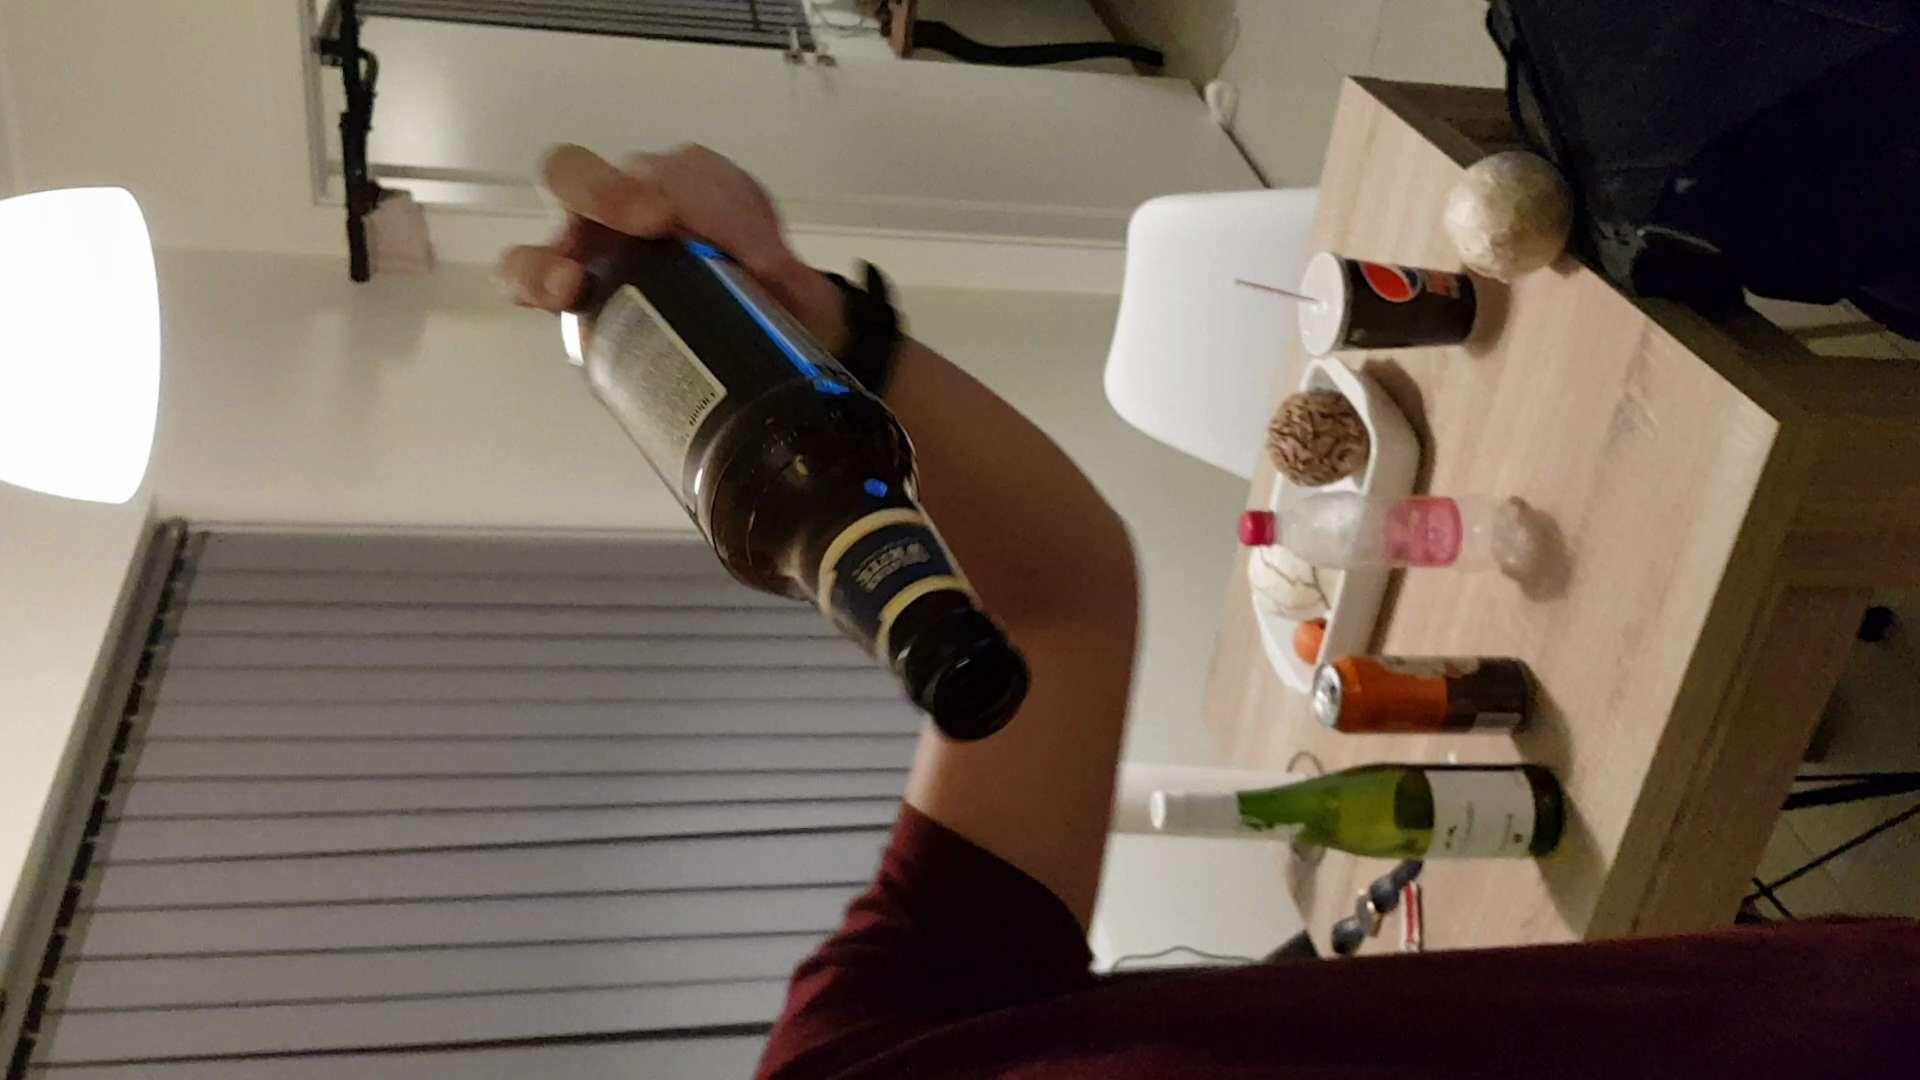Bottle: (555, 216, 1031, 749)
